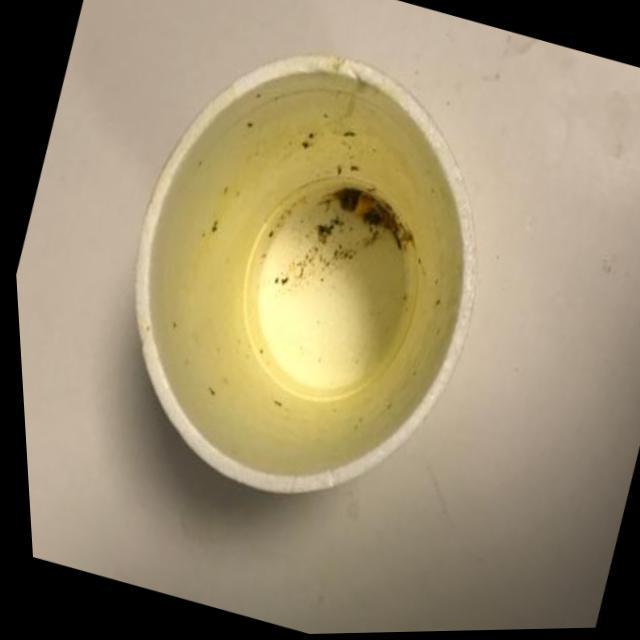trash: (0, 0, 601, 624)
